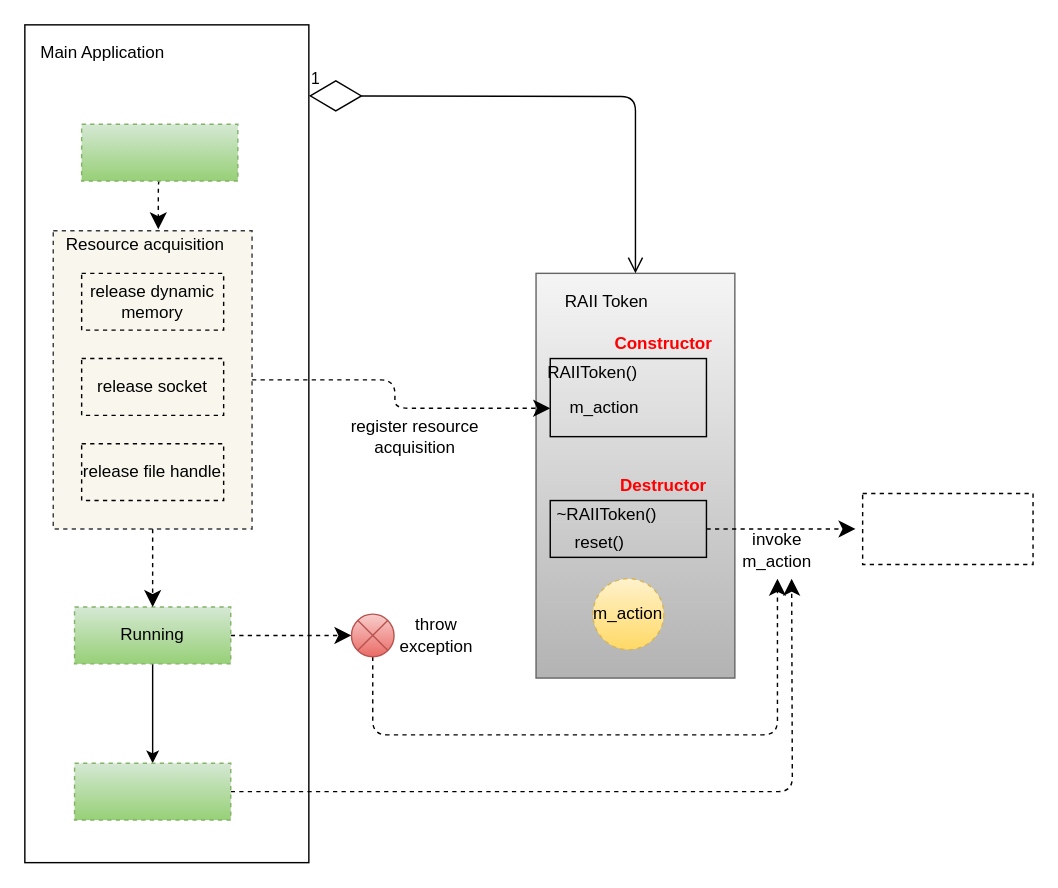
Some shapes in this 1058 by 888 pixel diagram are drawn without their labels. The shapes that lost their labels are listed below. From the top down, each one's centre as x and y in pixels, then its label:
At pixel 159 152: "Initialization".
At pixel 947 528: "resourse_acquisition()".
At pixel 152 791: "Termination".
